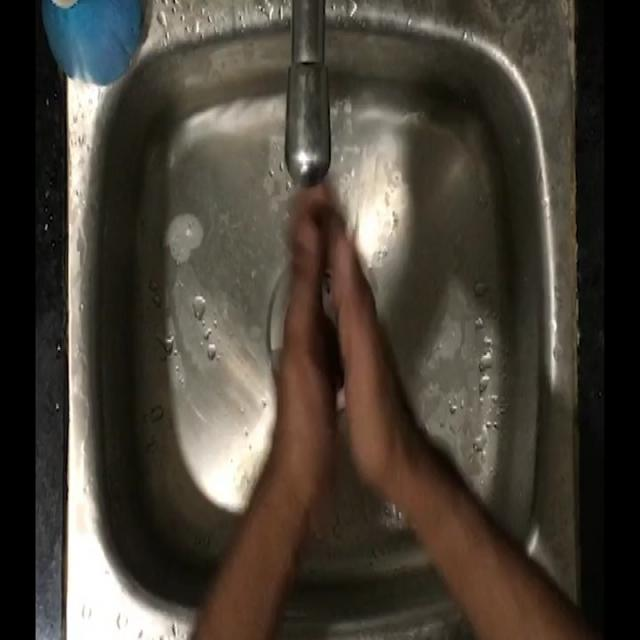step_1: (260, 116, 409, 476)
